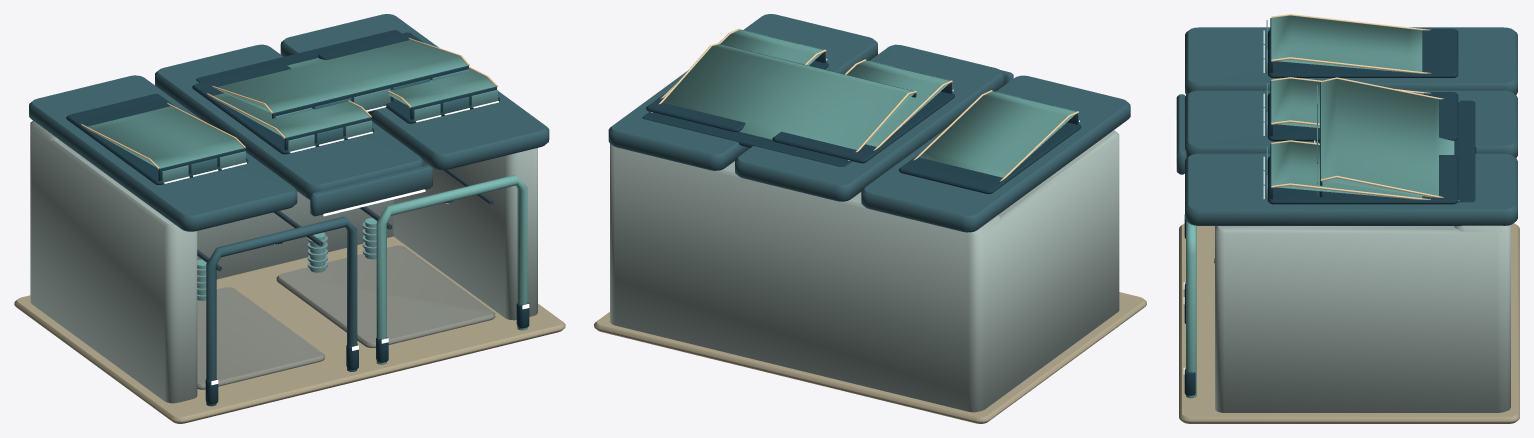
File: harbor_truck_wash.glb
3 views of the same model, side by side, from view 1: azimuth 30°, elevation 25°; view 2: azimuth 150°, elevation 25°; view 3: azimuth 270°, elevation 25° (orthographic). The views are drawn at different scales.
Parts seen in each view (by area): view 1: HarborTruckWash; view 2: HarborTruckWash; view 3: HarborTruckWash.
Boxes of the visible parts, x1=… form: HarborTruckWash: x1=14, y1=14, x2=565, y2=423; HarborTruckWash: x1=594, y1=14, x2=1146, y2=423; HarborTruckWash: x1=1175, y1=14, x2=1519, y2=423.
Bounding box in the file's own units: 9.88 × 5.45 × 7.3.
